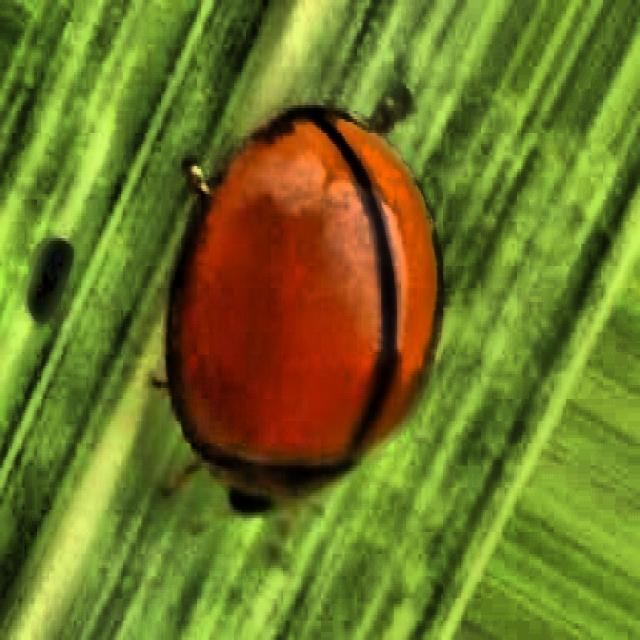Ladybug: (90, 24, 528, 596)
